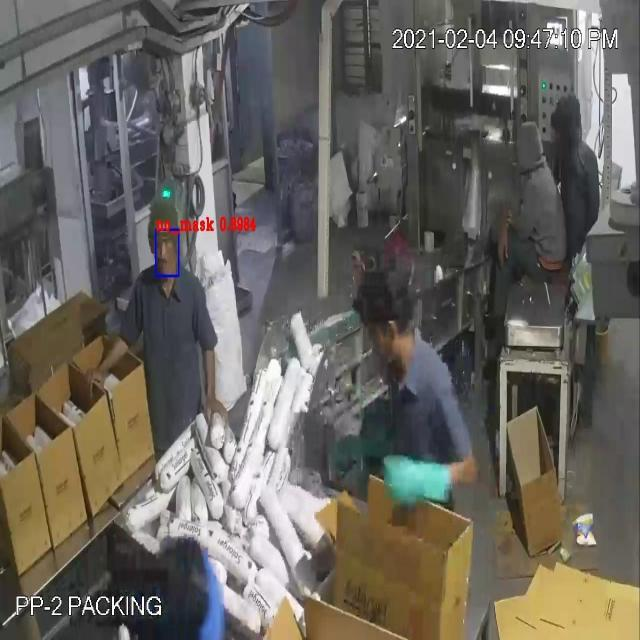No_Gloves: (17, 50, 504, 483)
